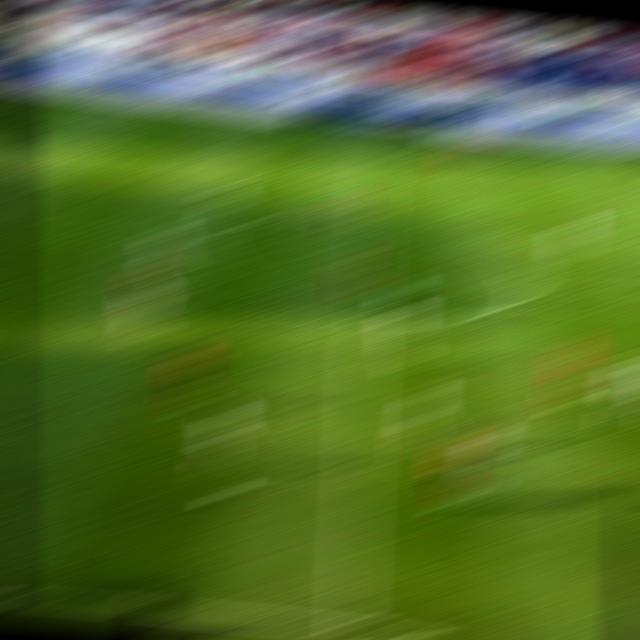halfcircle_bottom: (344, 302, 390, 331)
halfcircle_top: (350, 207, 393, 227)
midline_bottom_intersection: (322, 607, 376, 637)
midline_top_intersection: (356, 130, 395, 148)
